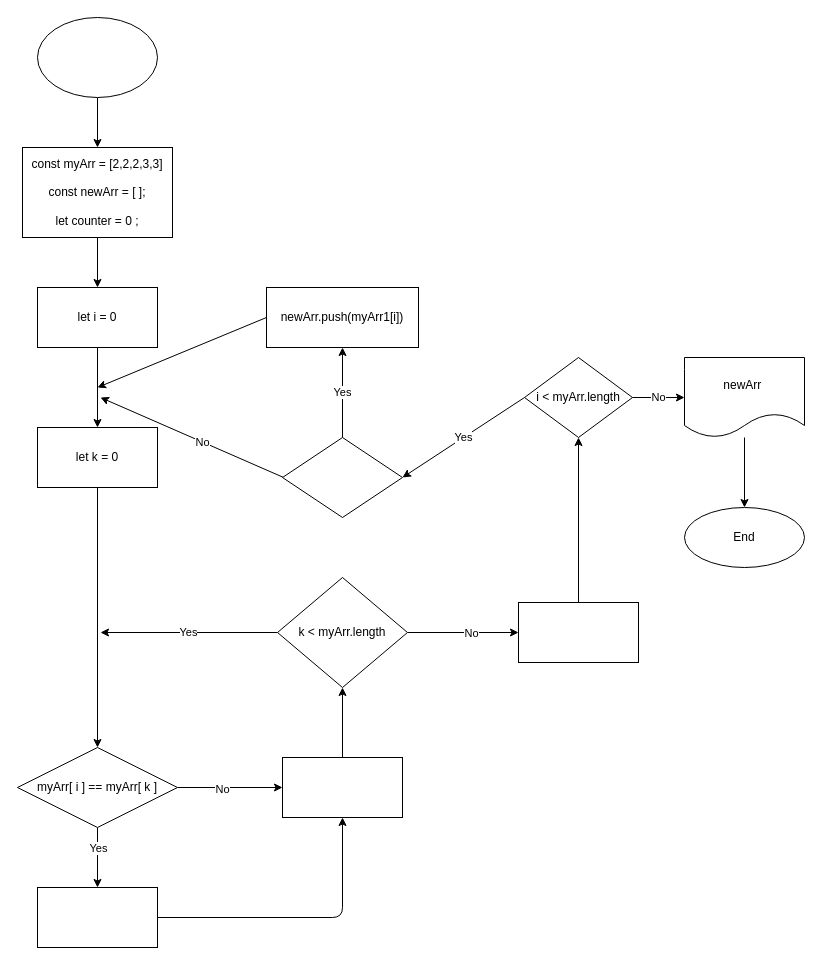
The diagram is 822 pixels wide and 965 high, and some of its shapes have lost their labels. Each missing label, with the centre of its shape:
counter ++ ;: point 97,917
counter == 2: point 342,477
i = i+1: point 578,632
k = k+1;: point 342,787
Start: point 97,57
